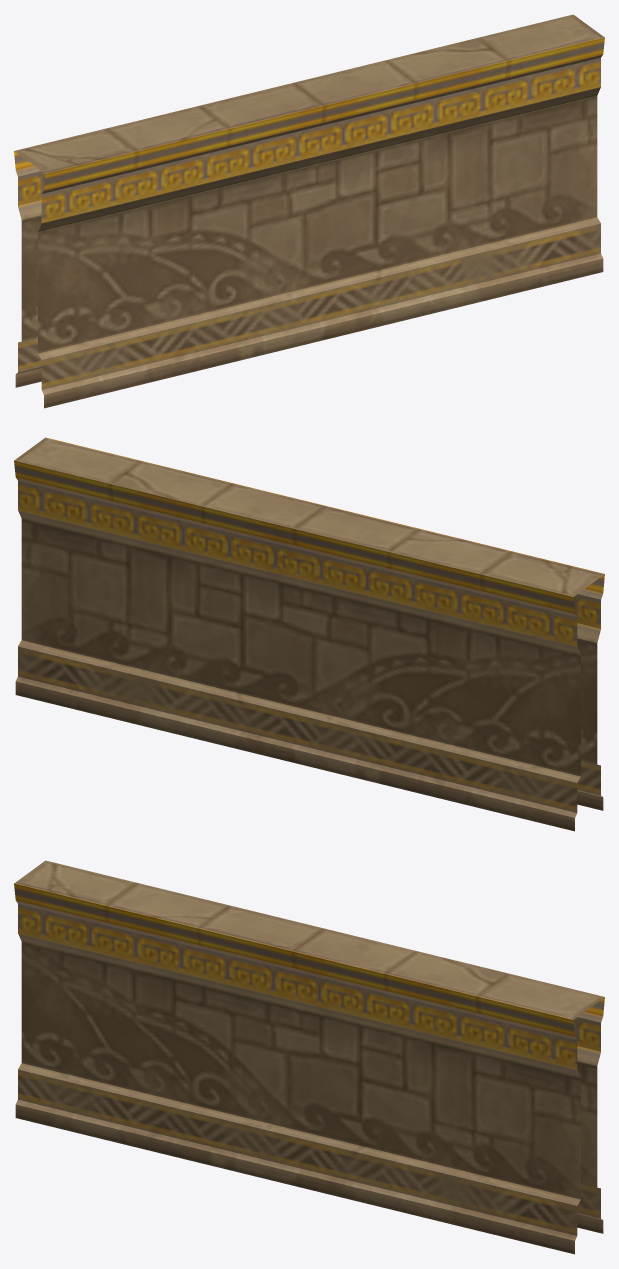
File: desert_dungeon_prop_2_2.FBX
The picture shows the model from 3 angles, top to bottom: view 1: azimuth 30°, elevation 25°; view 2: azimuth 150°, elevation 25°; view 3: azimuth 330°, elevation 25°; orthographic projection.
Visible parts, largest first — view 1: Object016; view 2: Object016; view 3: Object016.
Part boxes in pixels (x1,y1,x2,y2): Object016: [14, 14, 604, 408]; Object016: [14, 437, 604, 831]; Object016: [14, 860, 604, 1254].
Bounding box in the file's own units: 173 × 16.88 × 69.48.
